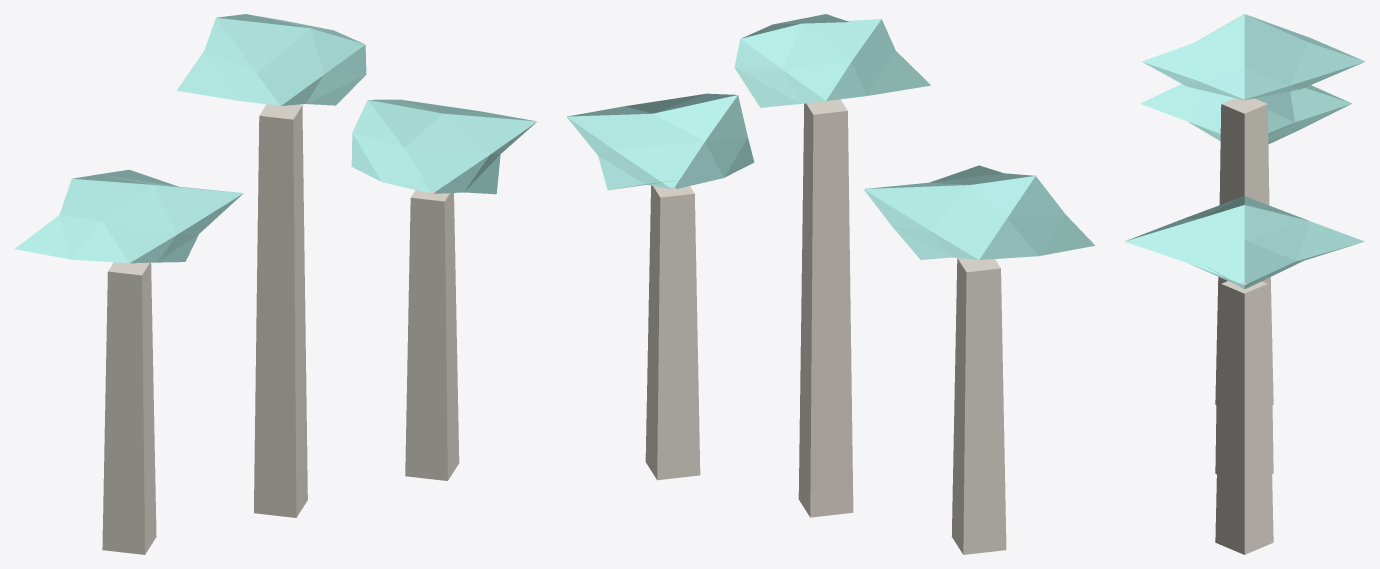
The model's file is glowcap_v07.glb.
The picture shows the model from 3 angles, left to right: view 1: azimuth 30°, elevation 25°; view 2: azimuth 150°, elevation 25°; view 3: azimuth 270°, elevation 25°; orthographic projection. The views are drawn at different scales.
Parts seen in each view (by area): view 1: lod0; view 2: lod0; view 3: lod0.
Part boxes in pixels (x1,y1,x2,y2): lod0: (14, 14, 537, 554); lod0: (567, 14, 1094, 554); lod0: (1124, 14, 1365, 554).
Size of what is drawn, in the model's own units: 0.484 by 0.43 by 0.2072.
